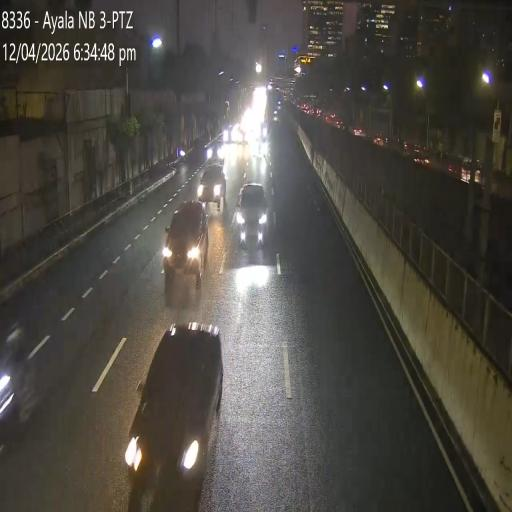Car: (119, 311, 227, 495), (160, 200, 214, 291), (230, 177, 272, 257), (198, 165, 229, 213)
Not Accident: (163, 161, 228, 277)
